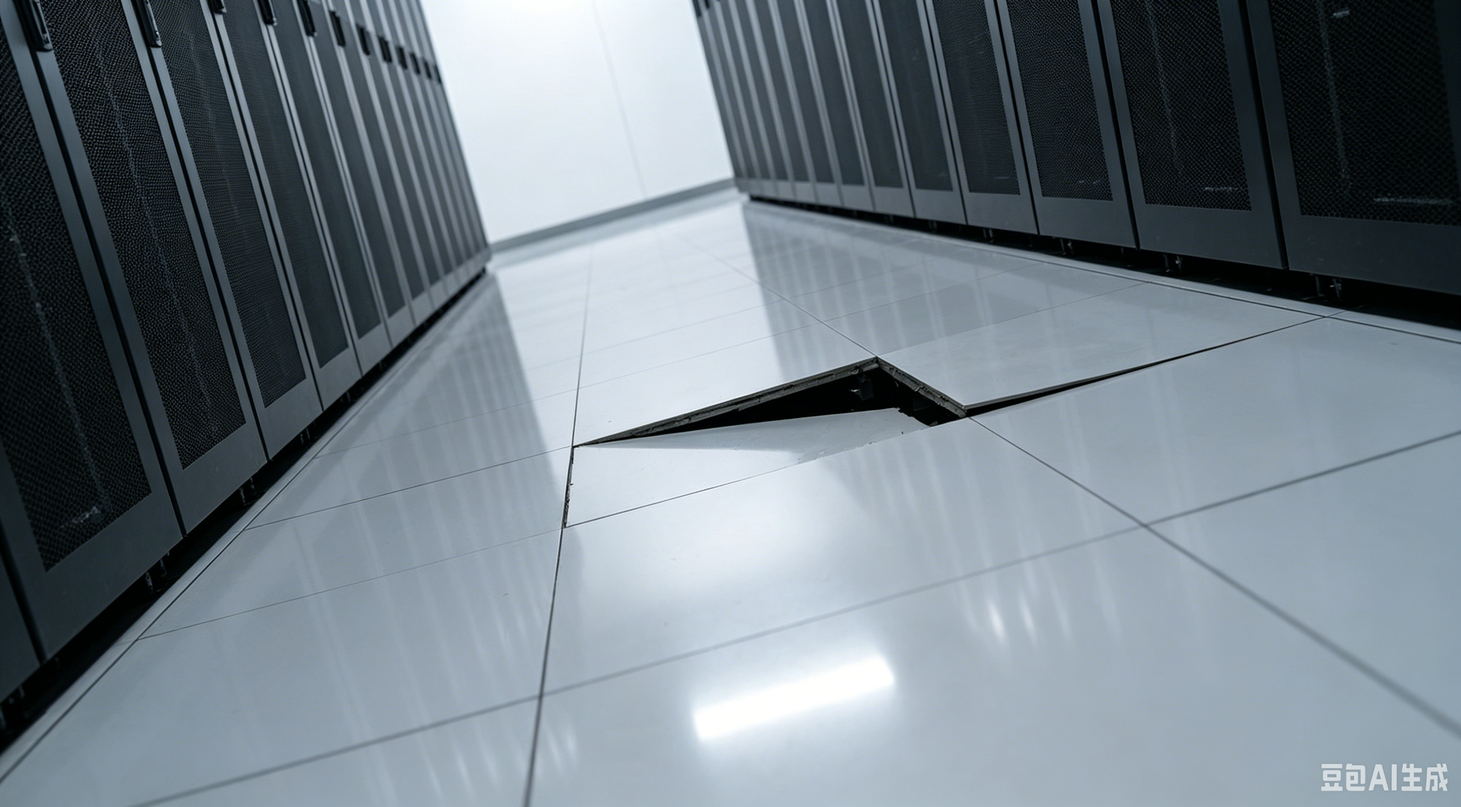floor_defect: (565, 346, 976, 537), (958, 358, 1205, 415)
